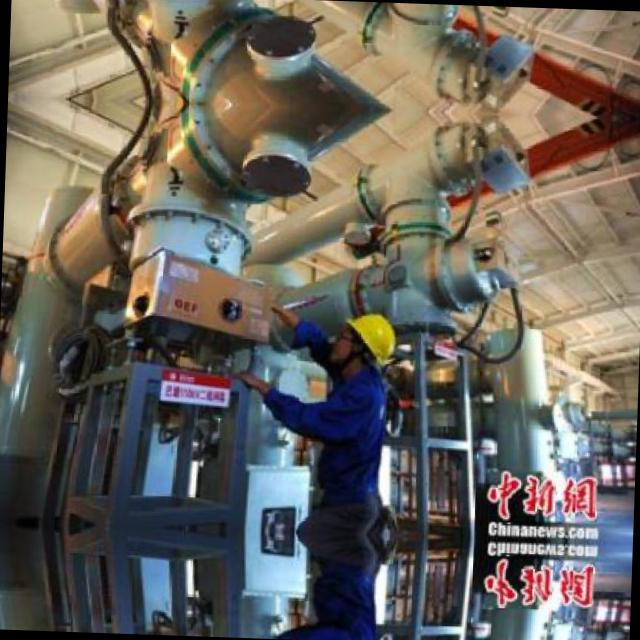helmet: (330, 306, 395, 374)
